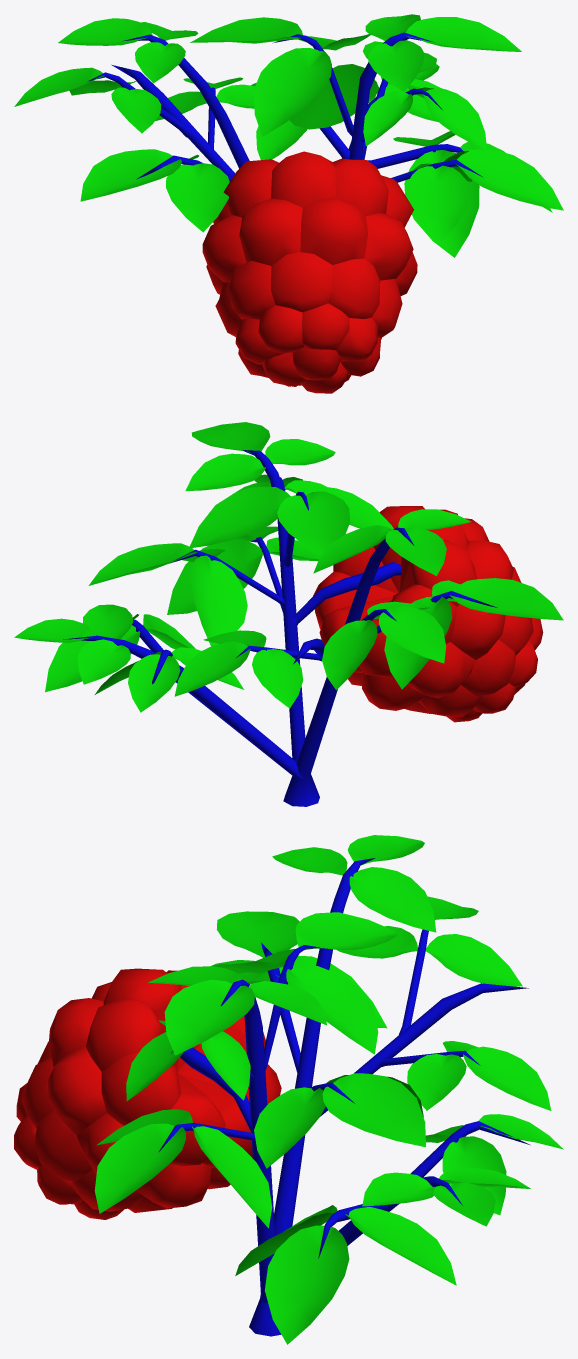
Rendered from BlackBerry_5.fbx.
3 renders of one model, top to bottom at view 1: azimuth 30°, elevation 25°; view 2: azimuth 150°, elevation 25°; view 3: azimuth 270°, elevation 25°, orthographic. The views are drawn at different scales.
Parts seen in each view (by area): view 1: BSTC_BlackBerry_5; view 2: BSTC_BlackBerry_5; view 3: BSTC_BlackBerry_5.
Part boxes in pixels (box(x1,y1,x2,y2)): BSTC_BlackBerry_5: box(14, 14, 563, 393); BSTC_BlackBerry_5: box(14, 422, 563, 806); BSTC_BlackBerry_5: box(14, 835, 563, 1344).
Size of the model in its own units: 108 by 72.52 by 92.35.
